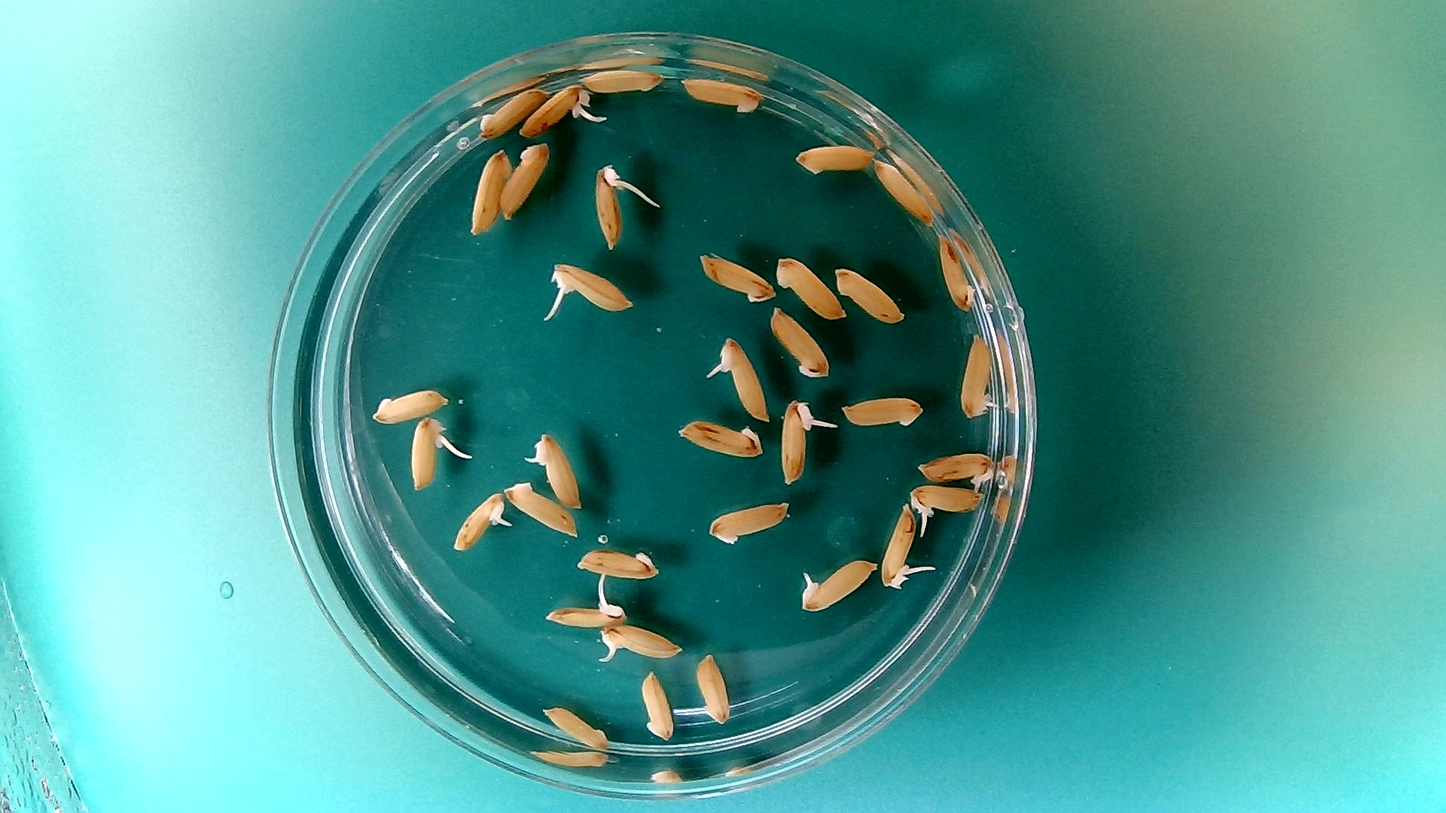no: (771, 253, 846, 321), (767, 303, 831, 379), (703, 497, 795, 548), (503, 476, 578, 538), (498, 139, 552, 221), (915, 448, 1002, 498), (474, 85, 550, 142), (832, 264, 905, 323), (877, 151, 935, 225), (697, 251, 776, 304), (467, 146, 512, 237), (675, 416, 765, 461), (573, 542, 663, 582), (677, 75, 764, 115), (540, 702, 610, 751), (370, 385, 452, 425), (935, 231, 975, 312), (691, 650, 732, 725), (839, 393, 924, 429), (792, 139, 874, 176), (638, 668, 677, 743), (580, 65, 665, 95)
yes: (710, 332, 771, 424), (515, 431, 585, 511), (517, 80, 609, 140), (545, 258, 636, 315), (795, 553, 879, 614), (907, 483, 987, 537), (777, 394, 822, 485), (450, 490, 511, 554), (957, 330, 1000, 420), (880, 500, 922, 592), (593, 621, 684, 663), (591, 161, 631, 251), (540, 593, 624, 630), (409, 415, 449, 492)
